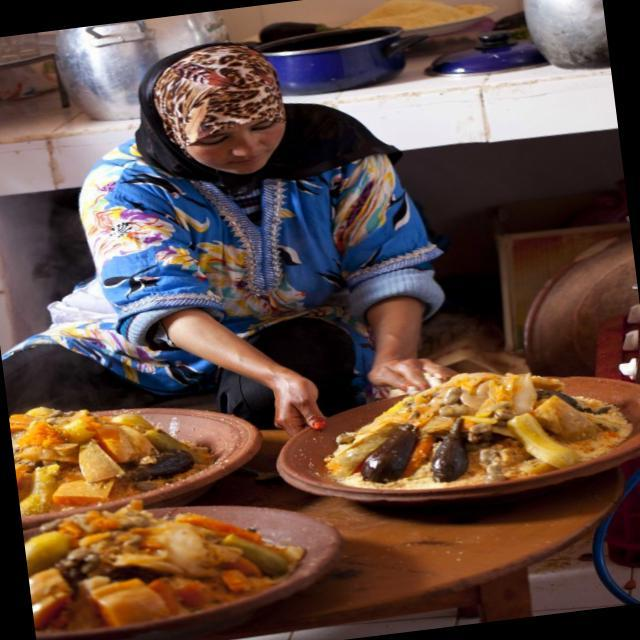Couscous: (279, 350, 640, 511), (23, 489, 340, 640), (9, 385, 255, 525)
